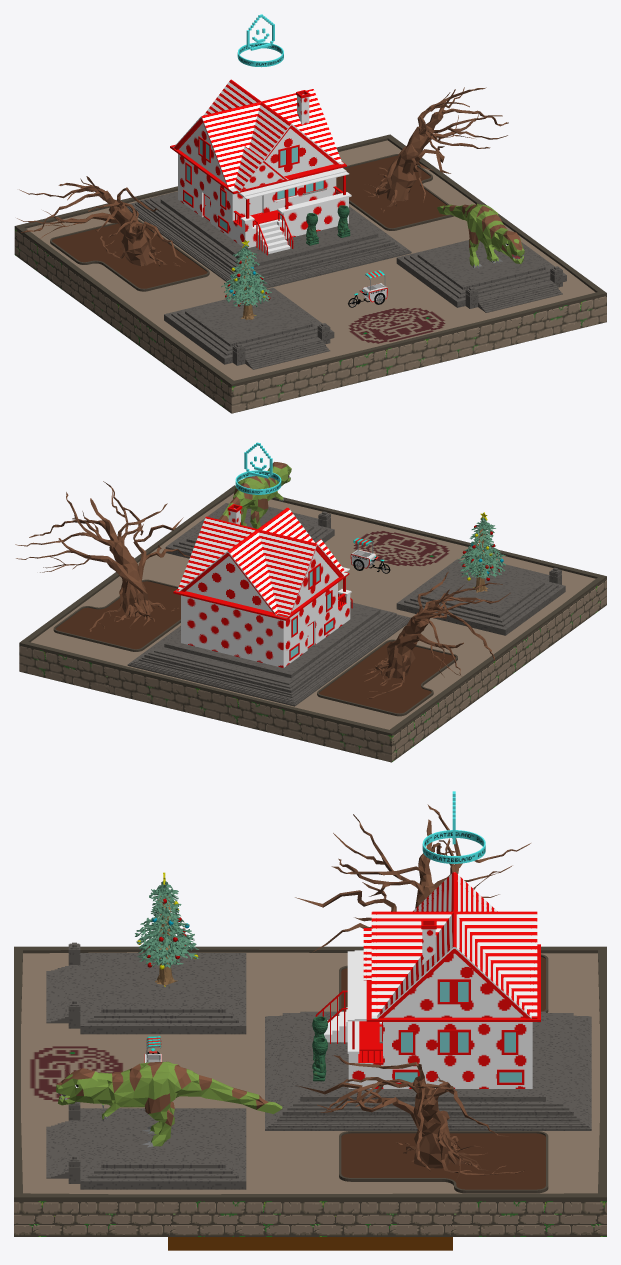
3 views of the same model, one above another, from view 1: azimuth 30°, elevation 25°; view 2: azimuth 150°, elevation 25°; view 3: azimuth 270°, elevation 25° (orthographic). The views are drawn at different scales.
Parts seen in each view (by area): view 1: Cube.011, Cube.196, ANIMAL_TREX, OBJRANDOM_CHRISTMAS_TREE, TYPE_PREMIUM, VEHICLES_SNOWBAL_BIKE; view 2: Cube.011, Cube.196, OBJRANDOM_CHRISTMAS_TREE, ANIMAL_TREX, TYPE_PREMIUM, VEHICLES_SNOWBAL_BIKE; view 3: Cube.011, Cube.196, ANIMAL_TREX, UNDERGROUND_ART_PIECE_VAN_GOGH, OBJRANDOM_CHRISTMAS_TREE, TYPE_PREMIUM.
Part boxes in pixels (bbox=[...]): Cube.011: bbox=[14, 87, 606, 413]; Cube.196: bbox=[170, 79, 351, 255]; ANIMAL_TREX: bbox=[437, 203, 524, 268]; OBJRANDOM_CHRISTMAS_TREE: bbox=[221, 240, 271, 319]; TYPE_PREMIUM: bbox=[237, 14, 283, 67]; VEHICLES_SNOWBAL_BIKE: bbox=[348, 270, 387, 307]; Cube.011: bbox=[15, 481, 606, 762]; Cube.196: bbox=[173, 504, 352, 667]; OBJRANDOM_CHRISTMAS_TREE: bbox=[458, 512, 505, 592]; ANIMAL_TREX: bbox=[218, 462, 291, 528]; TYPE_PREMIUM: bbox=[235, 442, 281, 494]; VEHICLES_SNOWBAL_BIKE: bbox=[350, 537, 390, 573]; Cube.011: bbox=[14, 804, 606, 1236]; Cube.196: bbox=[315, 872, 540, 1088]; ANIMAL_TREX: bbox=[56, 1061, 282, 1147]; UNDERGROUND_ART_PIECE_VAN_GOGH: bbox=[168, 1237, 452, 1250]; OBJRANDOM_CHRISTMAS_TREE: bbox=[135, 872, 198, 986]; TYPE_PREMIUM: bbox=[422, 791, 485, 863].
Bounding box in the file's own units: 5099 × 2592 × 4000.
36 materials, 8 textured.
